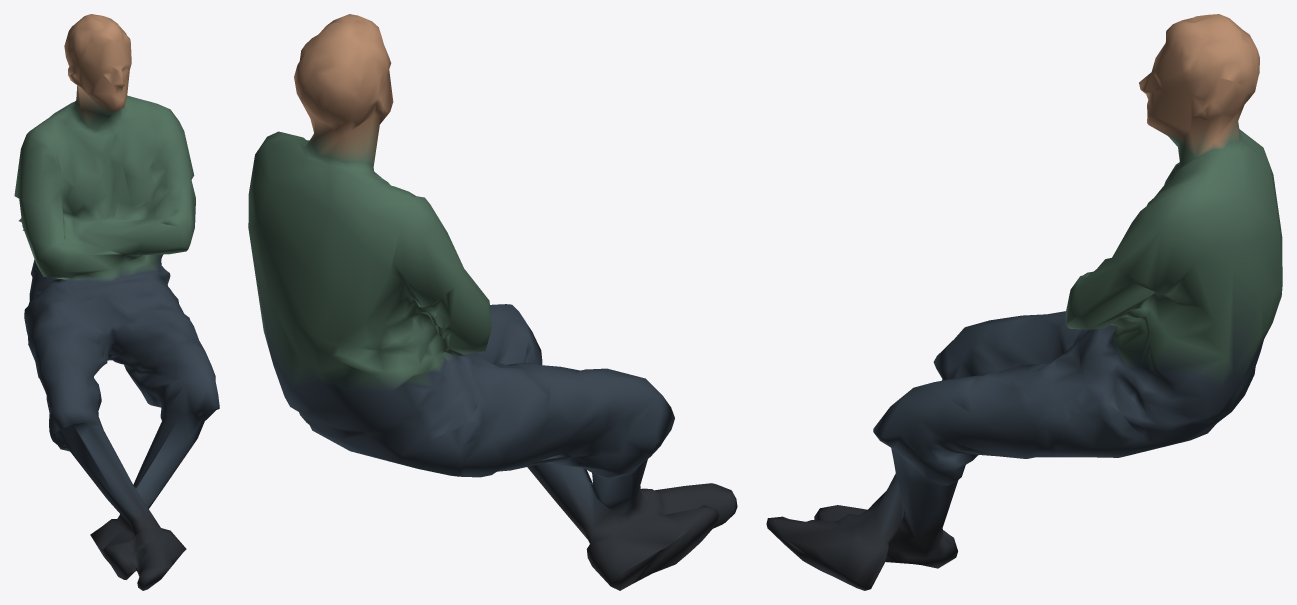
File: people_typ4_sit.glb
3 views of the same model, side by side, from view 1: azimuth 30°, elevation 25°; view 2: azimuth 150°, elevation 25°; view 3: azimuth 270°, elevation 25° (orthographic). The views are drawn at different scales.
Parts seen in each view (by area): view 1: people_typ4_sit-mesh; view 2: people_typ4_sit-mesh; view 3: people_typ4_sit-mesh.
Part boxes in pixels (bbox=[...]): people_typ4_sit-mesh: bbox=[14, 14, 219, 590]; people_typ4_sit-mesh: bbox=[248, 14, 737, 590]; people_typ4_sit-mesh: bbox=[766, 14, 1282, 590].
Size of the model in its own units: 0.6866 by 1.4 by 1.07.
